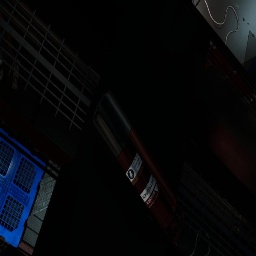FirstAidBox ,: (173, 240, 177, 245)
NitrogenTank ,: (90, 89, 184, 242)
